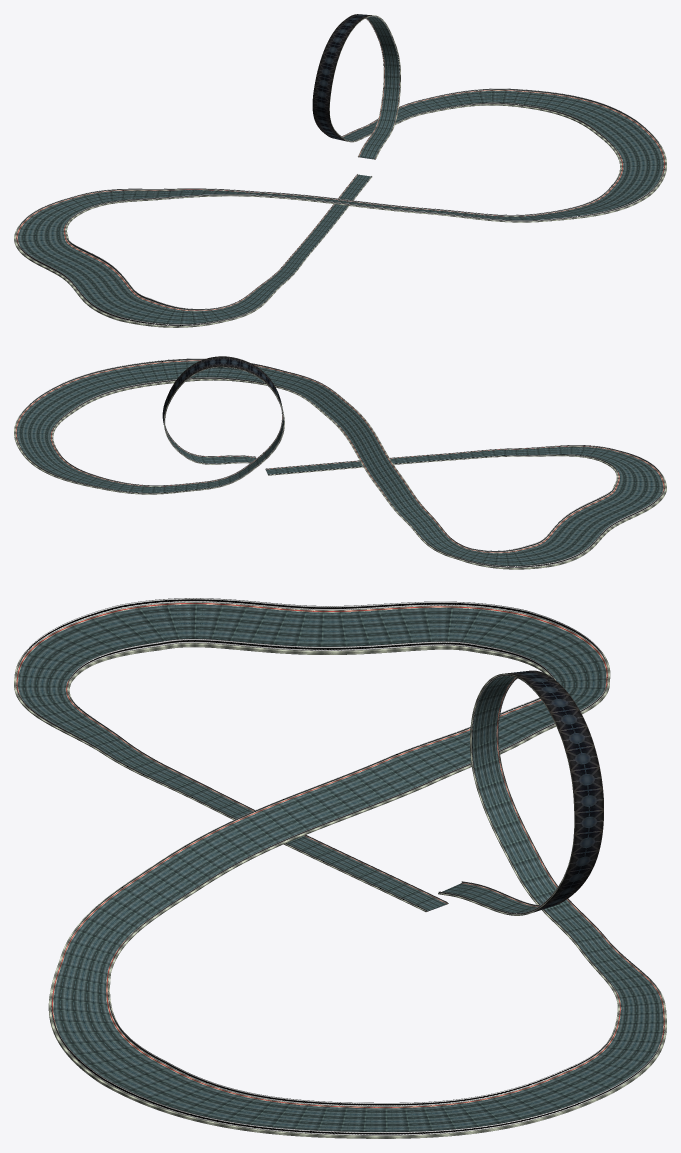
Rendered from FZX_EightRoad.fbx.
The picture shows the model from 3 angles, top to bottom: view 1: azimuth 30°, elevation 25°; view 2: azimuth 150°, elevation 25°; view 3: azimuth 270°, elevation 25°; orthographic projection. The views are drawn at different scales.
Parts seen in each view (by area): view 1: Road, Wall; view 2: Road, Wall; view 3: Road, Wall.
Boxes of the visible parts, bbox=[...] form: Road: bbox=[14, 14, 666, 327]; Wall: bbox=[16, 15, 665, 326]; Road: bbox=[14, 356, 666, 569]; Wall: bbox=[15, 358, 664, 567]; Road: bbox=[14, 602, 666, 1138]; Wall: bbox=[16, 598, 664, 1135].
Size of the model in its own units: 238019 by 51881 by 121985.
